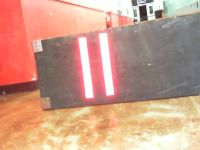switch: (98, 32, 116, 96), (77, 37, 94, 98)
